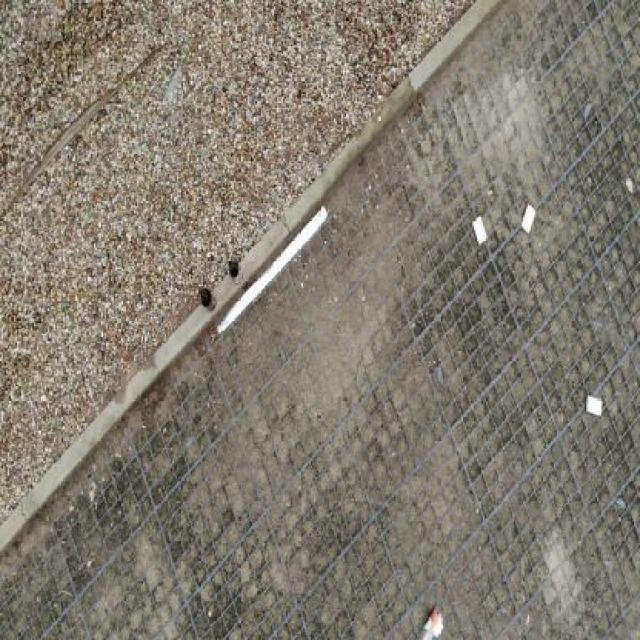Garbage: (218, 204, 329, 333), (416, 605, 445, 640), (471, 212, 488, 244), (519, 203, 536, 234), (199, 287, 215, 312), (586, 395, 603, 416), (230, 260, 243, 283)
